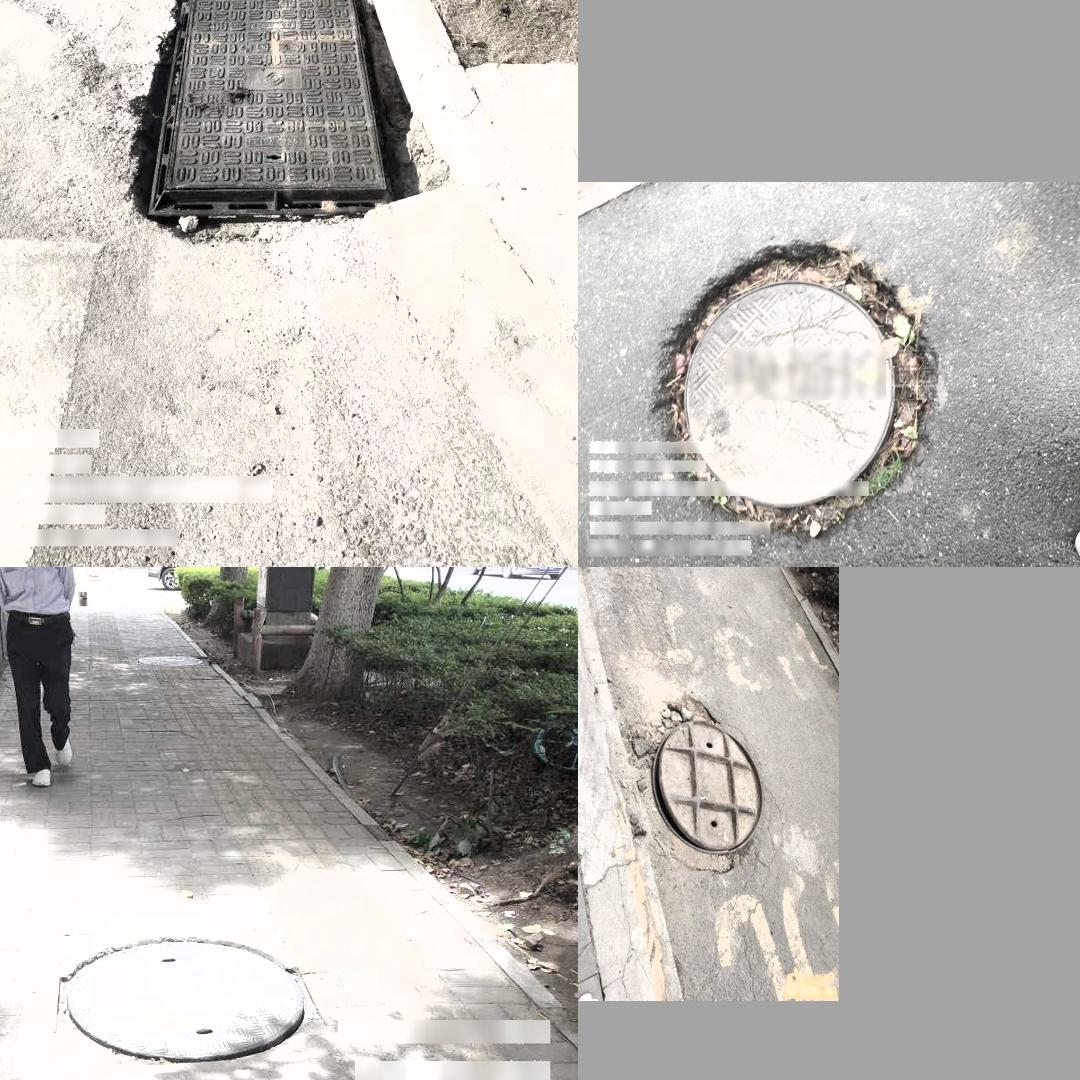circle: (650, 244, 938, 533), (129, 0, 424, 235), (607, 679, 773, 895), (59, 936, 312, 1066)
